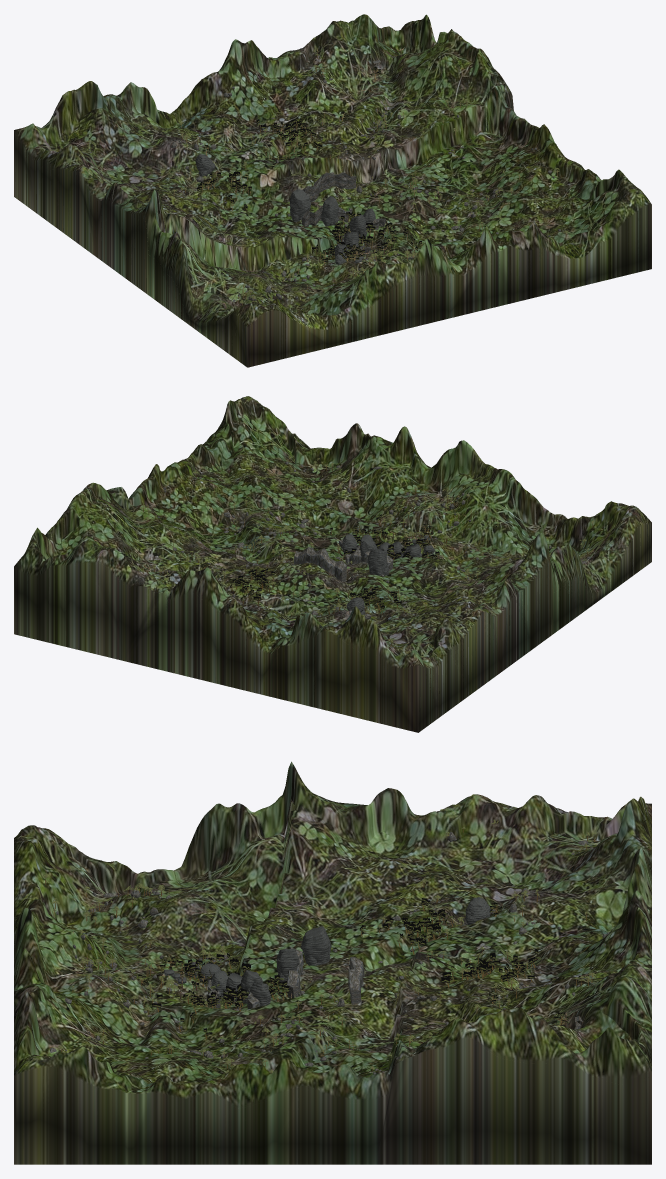
File: world008_LOD1.fbx
3 views of the same model, one above another, from view 1: azimuth 30°, elevation 25°; view 2: azimuth 150°, elevation 25°; view 3: azimuth 270°, elevation 25° (orthographic). The views are drawn at different scales.
Visible parts, largest first — view 1: LODMesh_0220, LODMesh_0221, LODMesh_0219, LODMesh_0218, LODMesh_0338, LODMesh_0319, LODMesh_0339, LODMesh_0334, LODMesh_0345, LODMesh_0344, LODMesh_0340, LODMesh_0321 (+26 smaller); view 2: LODMesh_0219, LODMesh_0221, LODMesh_0220, LODMesh_0218, LODMesh_0336, LODMesh_0323, LODMesh_0343, LODMesh_0329, LODMesh_0337, LODMesh_0324, LODMesh_0345, LODMesh_0330 (+25 smaller); view 3: LODMesh_0218, LODMesh_0221, LODMesh_0219, LODMesh_0220, LODMesh_0313, LODMesh_0318, LODMesh_0320, LODMesh_0332, LODMesh_0315, LODMesh_0327, LODMesh_0330, LODMesh_0319 (+28 smaller).
Boxes of the visible parts, box(x1,y1,x2,y2) form: LODMesh_0220: box(247, 193, 651, 367); LODMesh_0221: box(14, 124, 252, 367); LODMesh_0219: box(19, 14, 413, 150); LODMesh_0218: box(409, 14, 651, 205); LODMesh_0338: box(364, 106, 467, 186); LODMesh_0319: box(197, 220, 302, 274); LODMesh_0339: box(320, 81, 429, 148); LODMesh_0334: box(234, 69, 321, 130); LODMesh_0345: box(390, 43, 472, 105); LODMesh_0344: box(429, 82, 516, 168); LODMesh_0340: box(295, 40, 389, 96); LODMesh_0321: box(120, 136, 226, 195); LODMesh_0219: box(14, 536, 418, 732); LODMesh_0221: box(414, 507, 651, 732); LODMesh_0220: box(253, 398, 640, 548); LODMesh_0218: box(24, 396, 256, 560); LODMesh_0336: box(238, 475, 345, 531); LODMesh_0323: box(411, 472, 501, 538); LODMesh_0343: box(149, 478, 237, 535); LODMesh_0329: box(343, 453, 433, 514); LODMesh_0337: box(202, 504, 303, 553); LODMesh_0324: box(378, 509, 478, 566); LODMesh_0345: box(71, 499, 157, 553); LODMesh_0330: box(305, 503, 411, 547); LODMesh_0218: box(14, 1007, 651, 1164); LODMesh_0221: box(30, 761, 630, 896); LODMesh_0219: box(596, 796, 651, 1071); LODMesh_0220: box(14, 825, 76, 1075); LODMesh_0313: box(224, 799, 335, 918); LODMesh_0318: box(118, 896, 230, 971); LODMesh_0320: box(329, 875, 441, 947); LODMesh_0332: box(329, 959, 442, 1043); LODMesh_0315: box(434, 828, 547, 890); LODMesh_0327: box(436, 909, 547, 978); LODMesh_0330: box(118, 985, 230, 1051); LODMesh_0319: box(223, 878, 336, 960).
Bounding box in the file's own units: 80000 × 20593 × 80000.
